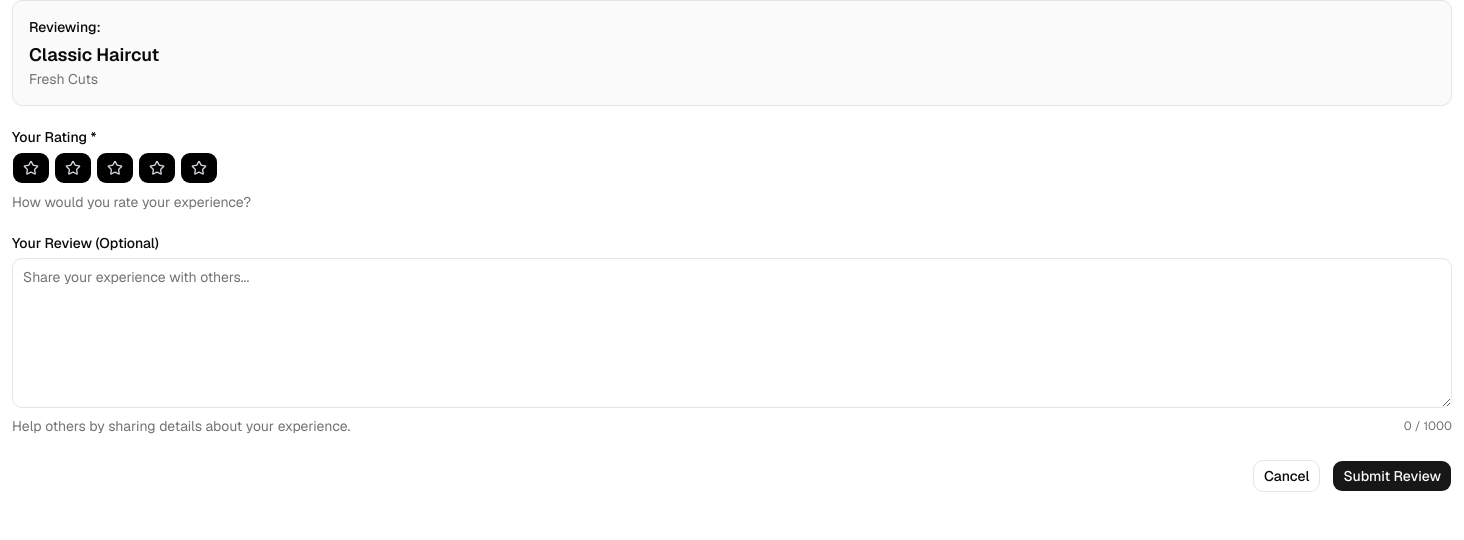
Test: ReviewForm — Create mode › shows rating validation error when submitting without selecting a rating
Click the button "Submit Review". click: click(1392, 476)
box: [1332,460,1452,492]
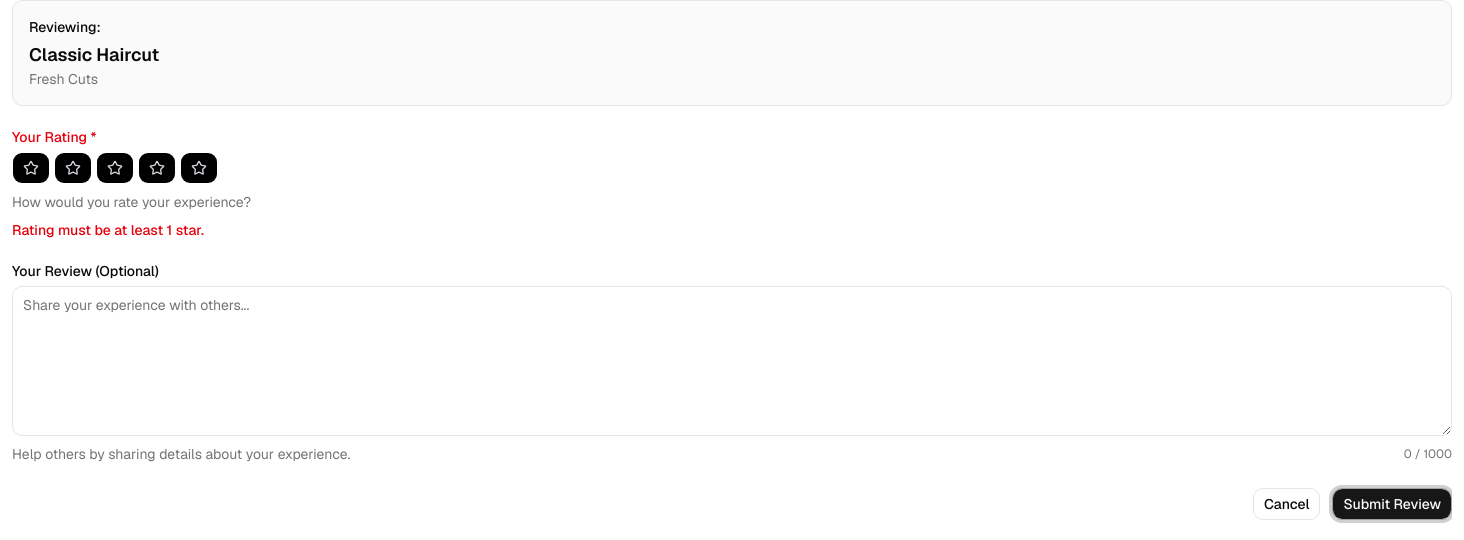
Check: the text "Rating must be at least 1 star." is shown, box [12,221,204,239]
